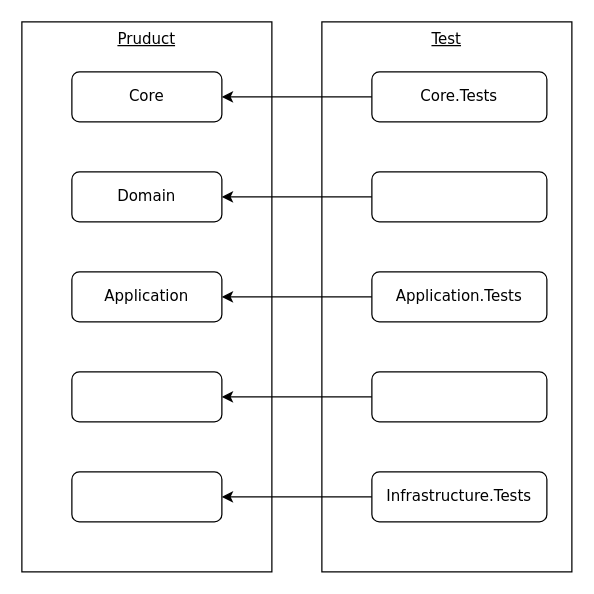
Image size: 594x594. Some labels were removed from this diagram. The box of each missing label's shape, as (x1, y1, x2, y2) in pixels:
Domain.Tests: (371, 171, 547, 222)
Infrastructure: (71, 471, 222, 522)
Presentation: (71, 371, 222, 422)
Presentation.Tests: (371, 371, 547, 422)
